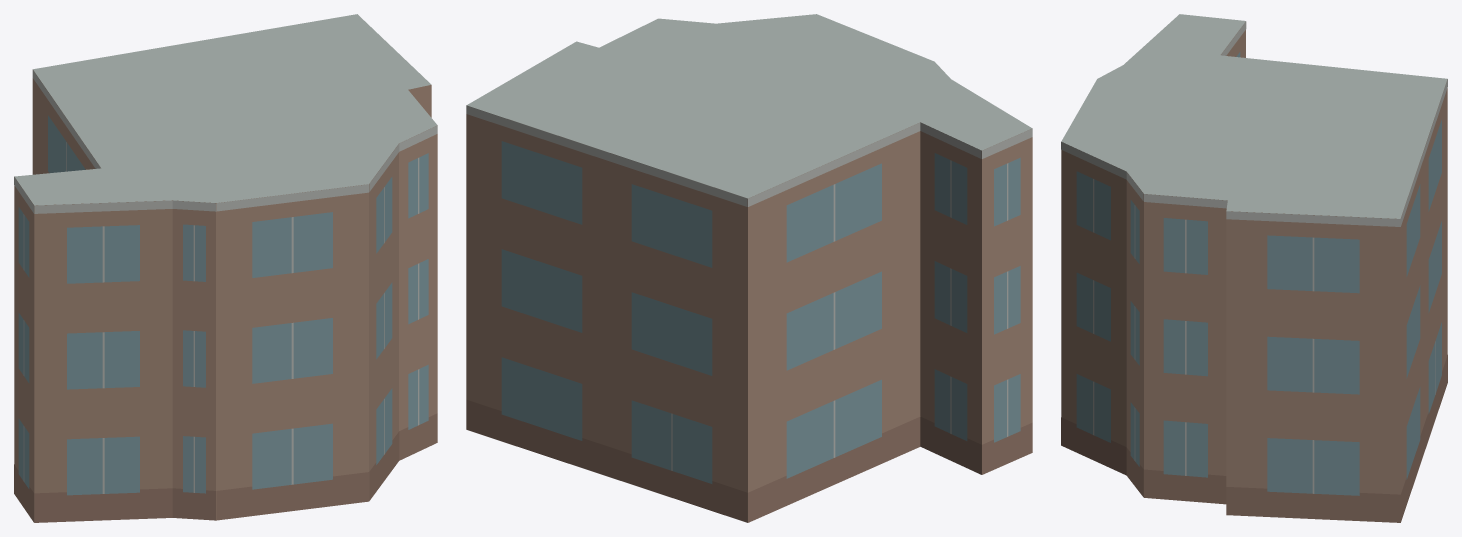
Rendered from survey-upis-32896085.glb.
3 views of the same model, side by side, from view 1: azimuth 30°, elevation 25°; view 2: azimuth 150°, elevation 25°; view 3: azimuth 270°, elevation 25° (orthographic). The views are drawn at different scales.
Visible parts, largest first — view 1: survey-upis-32896085.tmp; view 2: survey-upis-32896085.tmp; view 3: survey-upis-32896085.tmp.
Boxes of the visible parts, x1,y1,x2,y2 form: survey-upis-32896085.tmp: [14, 14, 437, 522]; survey-upis-32896085.tmp: [466, 14, 1032, 522]; survey-upis-32896085.tmp: [1061, 14, 1447, 522].
Bounding box in the file's own units: 13.24 × 9.15 × 10.56.
